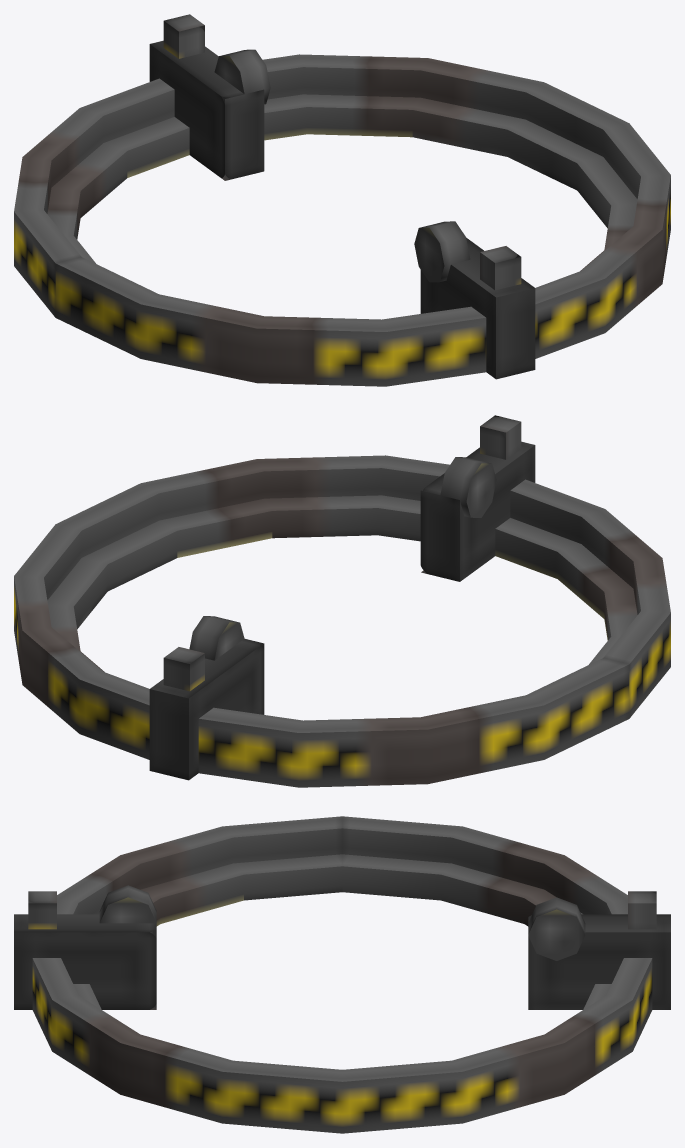
File: precass_ring.obj
3 views of the same model, one above another, from view 1: azimuth 30°, elevation 25°; view 2: azimuth 150°, elevation 25°; view 3: azimuth 270°, elevation 25° (orthographic). The views are drawn at different scales.
Parts seen in each view (by area): view 1: Ring; view 2: Ring; view 3: Ring.
Part boxes in pixels (x1,y1,x2,y2): Ring: (14,14,670,386); Ring: (14,415,670,787); Ring: (14,816,670,1133).
Size of the model in its own units: 2.75 by 0.5 by 2.88.
